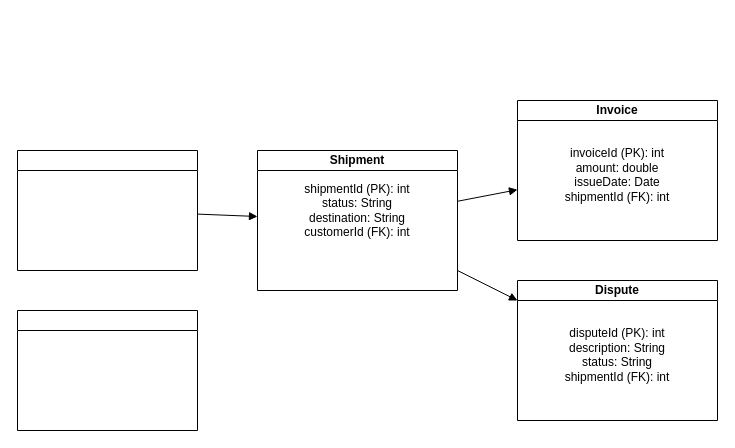
Image size: 735x448. Some labels were removed from this diagram. Here are the shapes that lost their labels. From the top down, the centre of each, then its label:
At (x=107, y=210): "Customer customerId (PK): int name: String contactInfo: String".
At (x=107, y=370): "ShippingManager managerId (PK): int name: String department: String".
